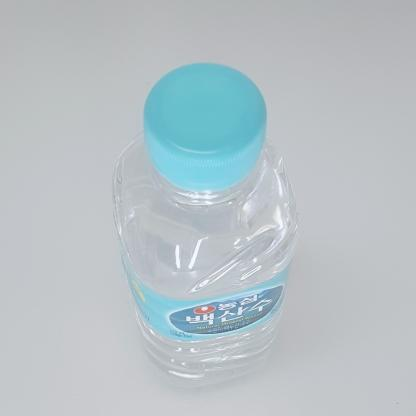-----330ML: (111, 62, 300, 388)
